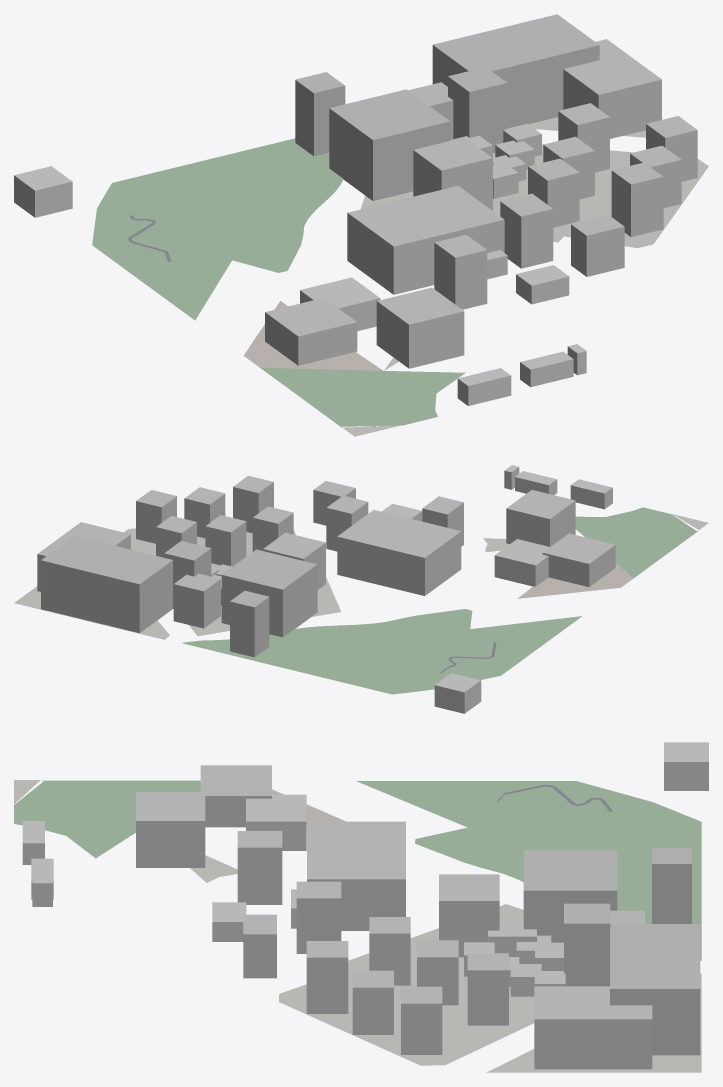
Rendered from 112_110_mid.glb.
The picture shows the model from 3 angles, top to bottom: view 1: azimuth 30°, elevation 25°; view 2: azimuth 150°, elevation 25°; view 3: azimuth 270°, elevation 25°; orthographic projection. The views are drawn at different scales.
Size of the model in its own units: 514 by 58.08 by 505.
